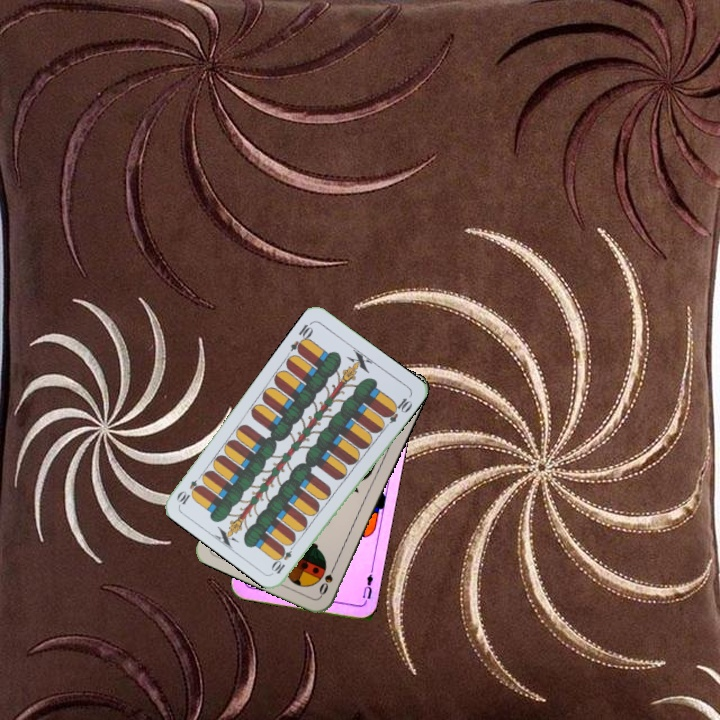E10: (286, 318, 316, 356), (268, 539, 298, 576)
EU: (359, 566, 376, 606)
SO: (315, 560, 339, 599)
